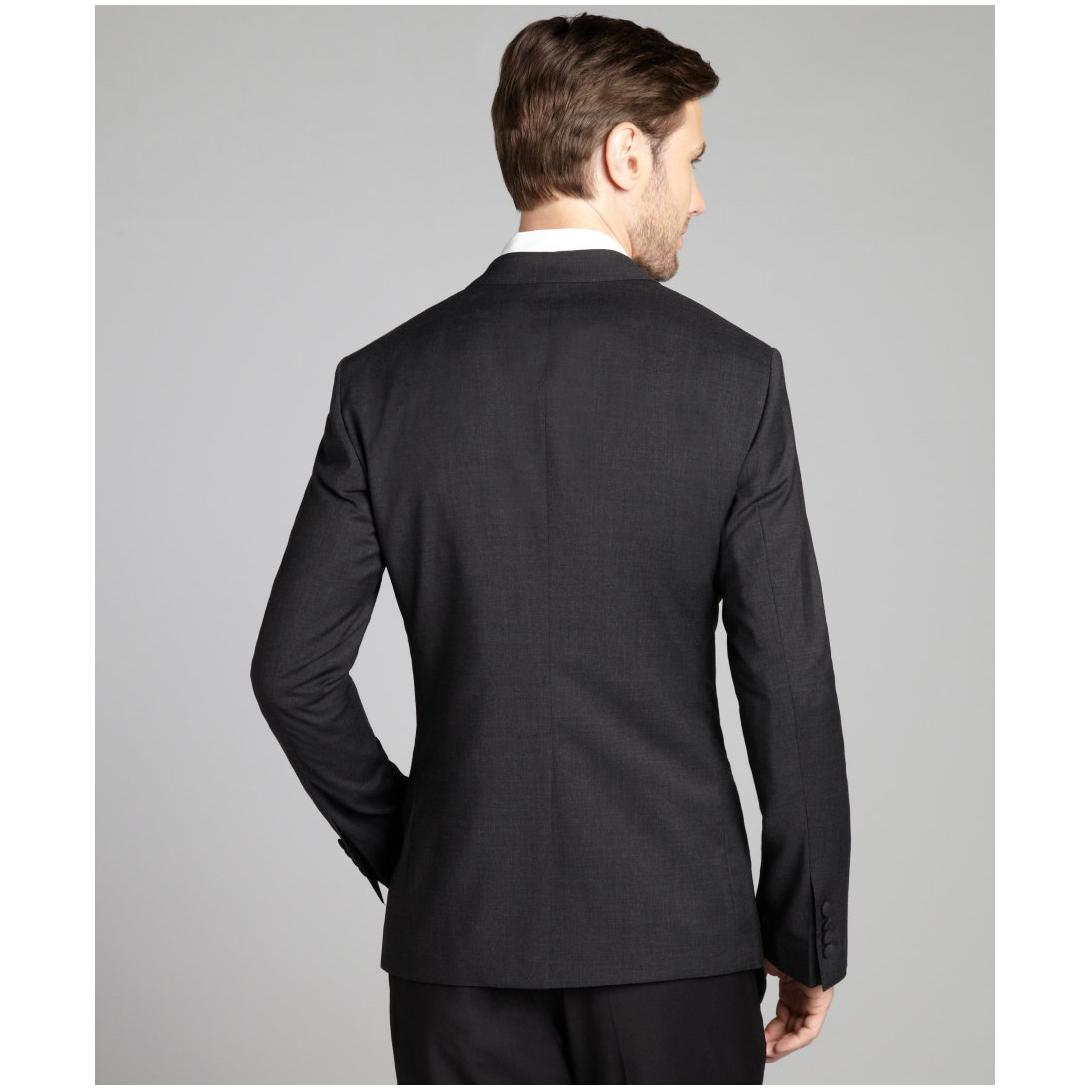F_M_suit jacket: (247, 240, 861, 970)
